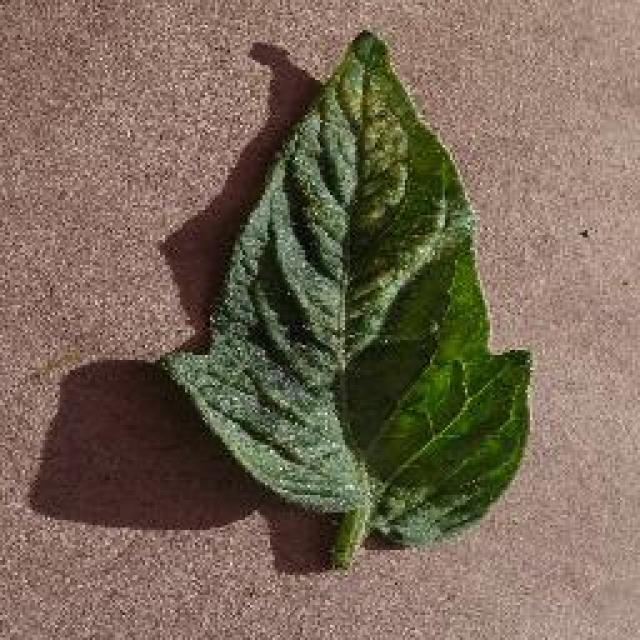Tomato___Spider_mites Two-spotted_spider_mite: (162, 30, 528, 568)
